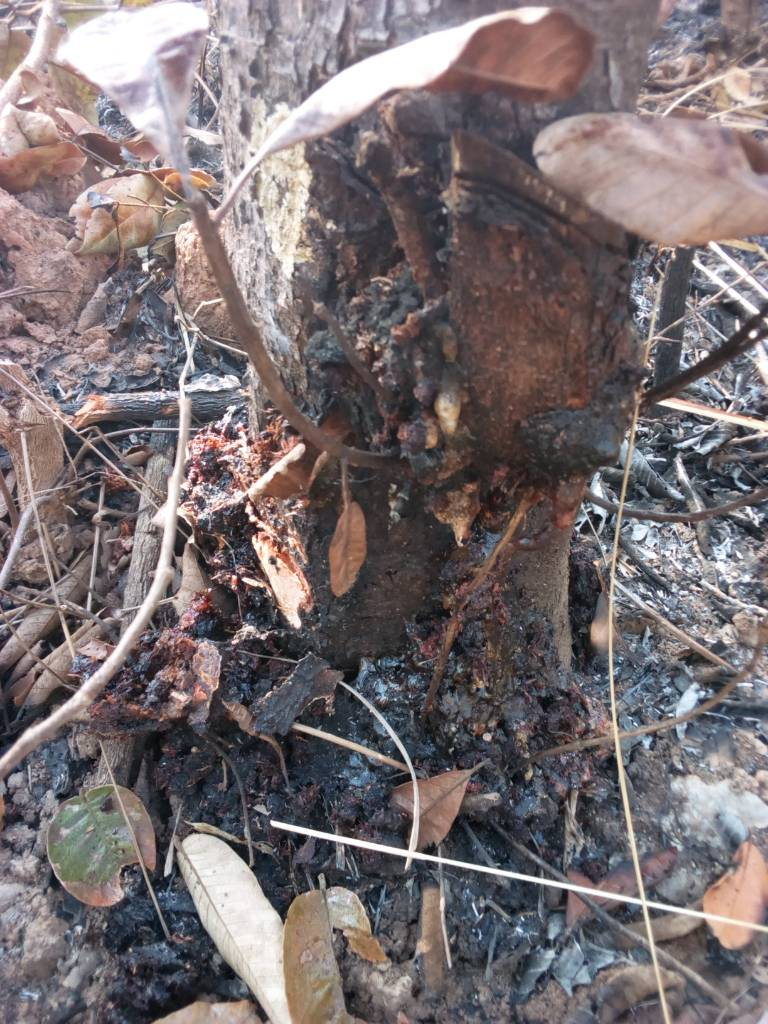Gommose: (302, 153, 610, 683)
